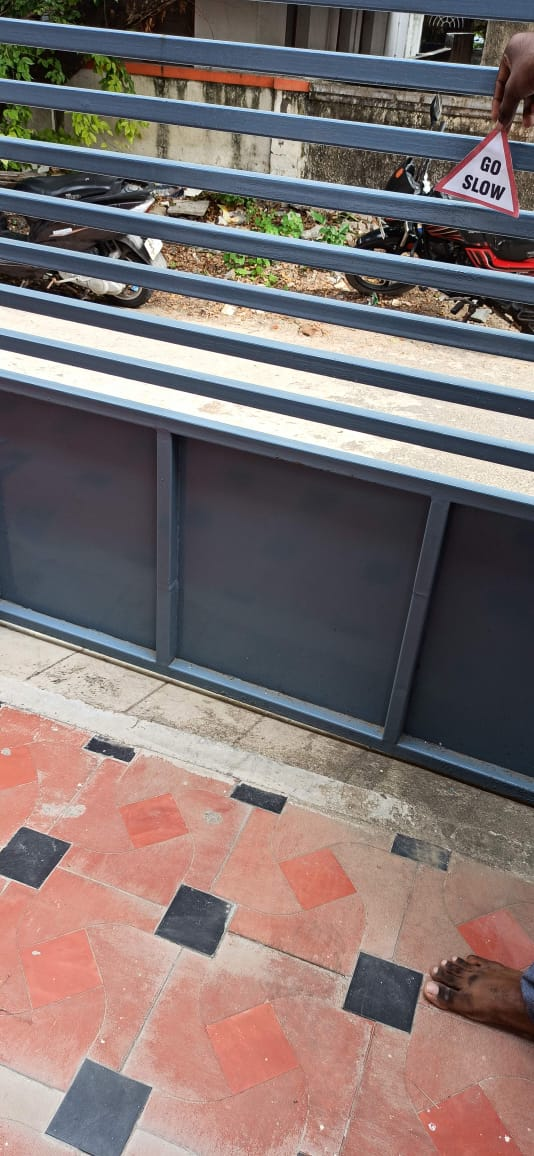GO SLOW: (431, 120, 534, 231)
